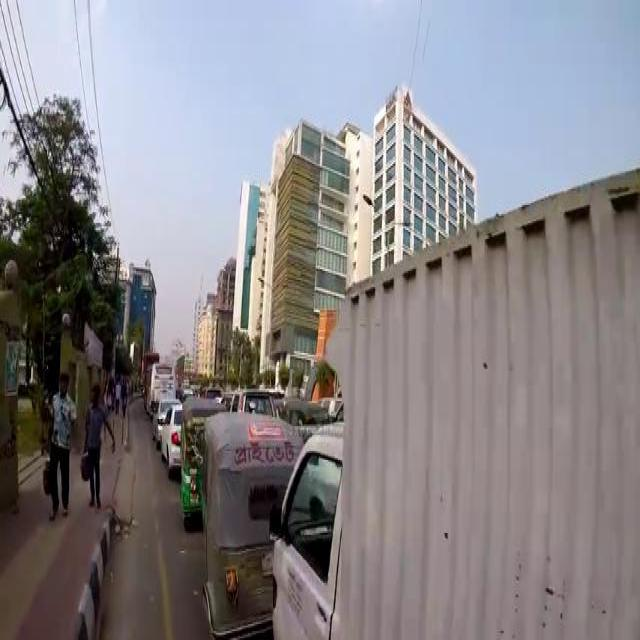11: (270, 166, 638, 634)
17: (202, 408, 304, 638), (180, 395, 224, 520)
5: (158, 402, 182, 470), (151, 396, 179, 440)
9: (220, 388, 274, 412)
Truck: (144, 362, 174, 413), (142, 350, 158, 366)
